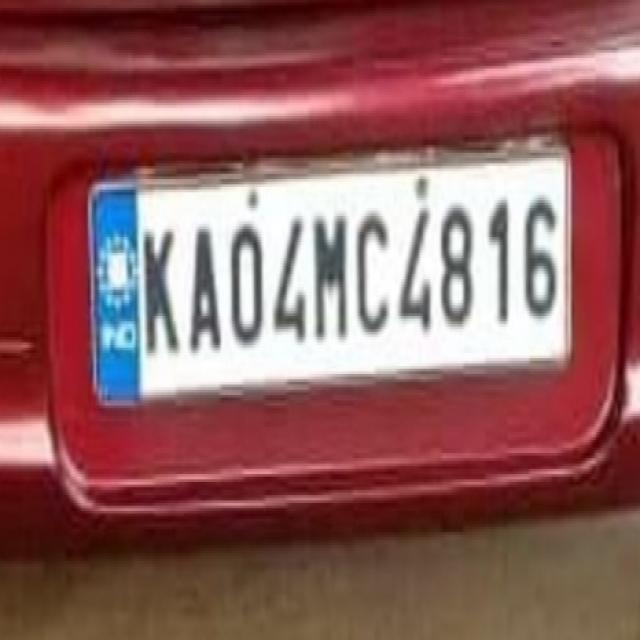0: (227, 225, 269, 352)
1: (481, 186, 519, 335)
4: (269, 210, 309, 348), (397, 202, 435, 344)
6: (522, 182, 563, 335)
8: (438, 203, 478, 338)
A: (184, 218, 223, 361)
C: (352, 211, 390, 344)
K: (140, 225, 181, 367)
M: (311, 214, 348, 344)
